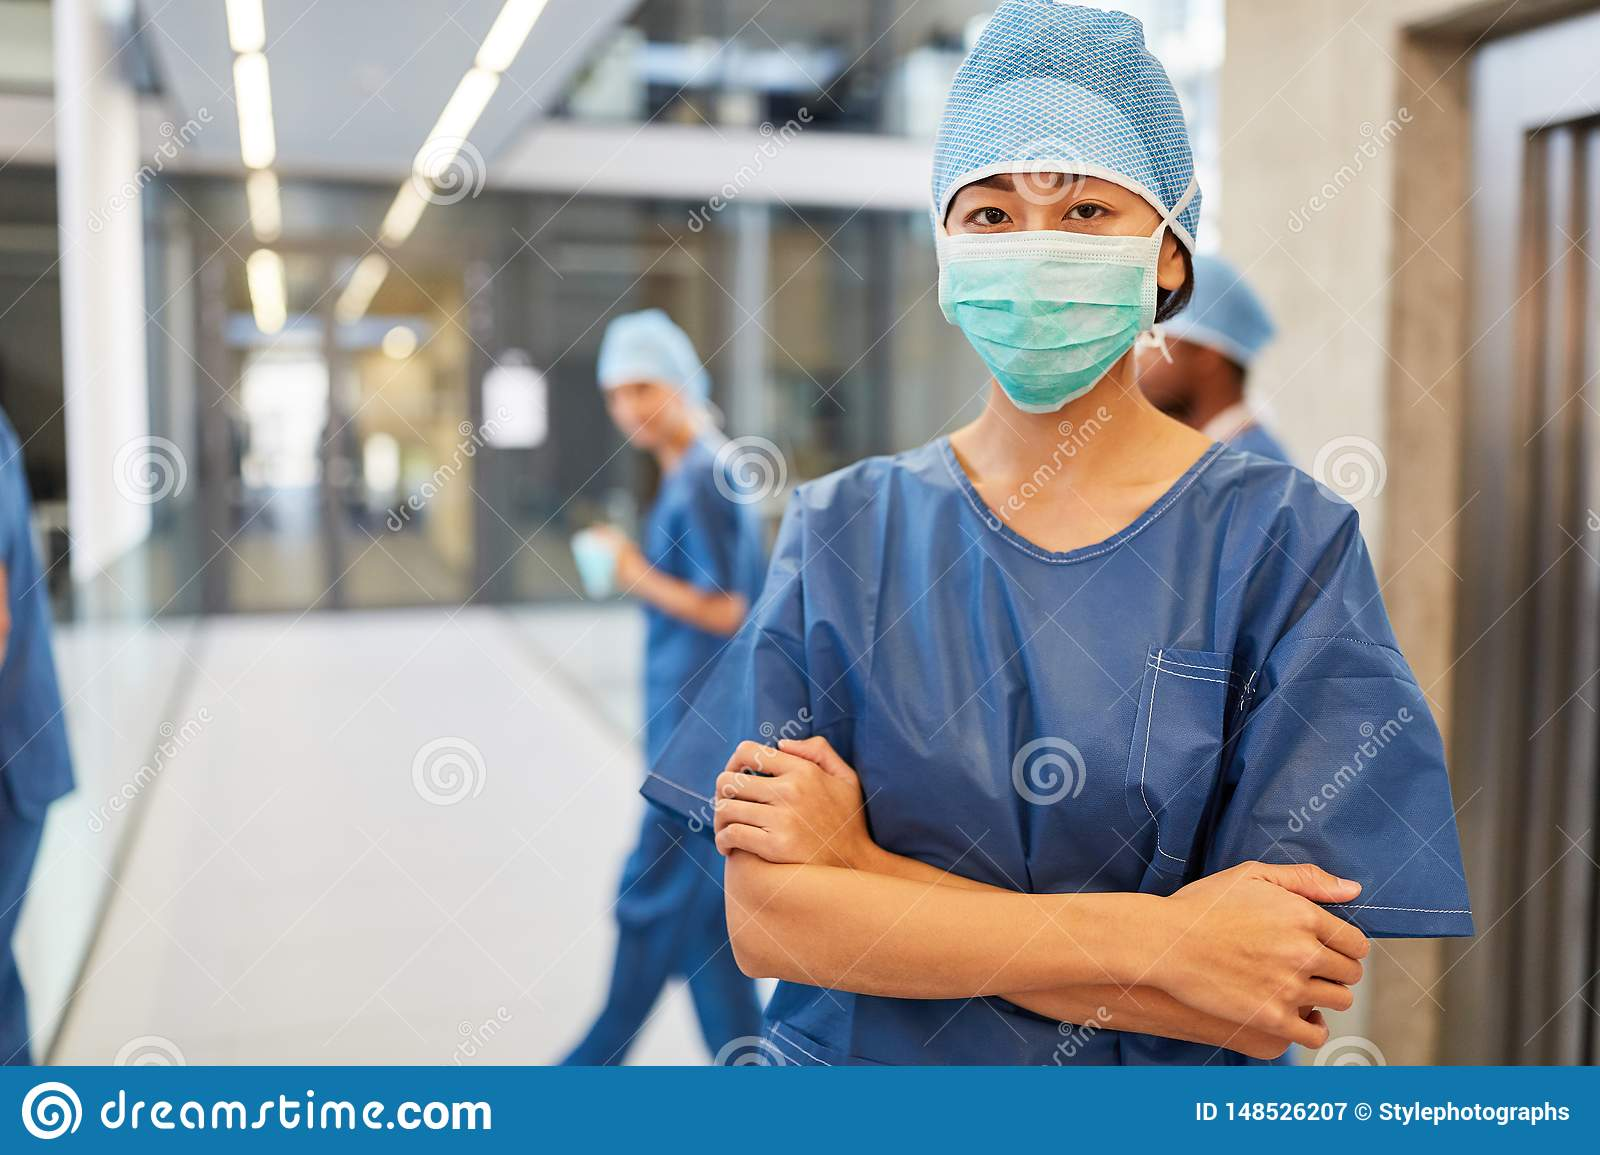mask: (930, 238, 1166, 427)
